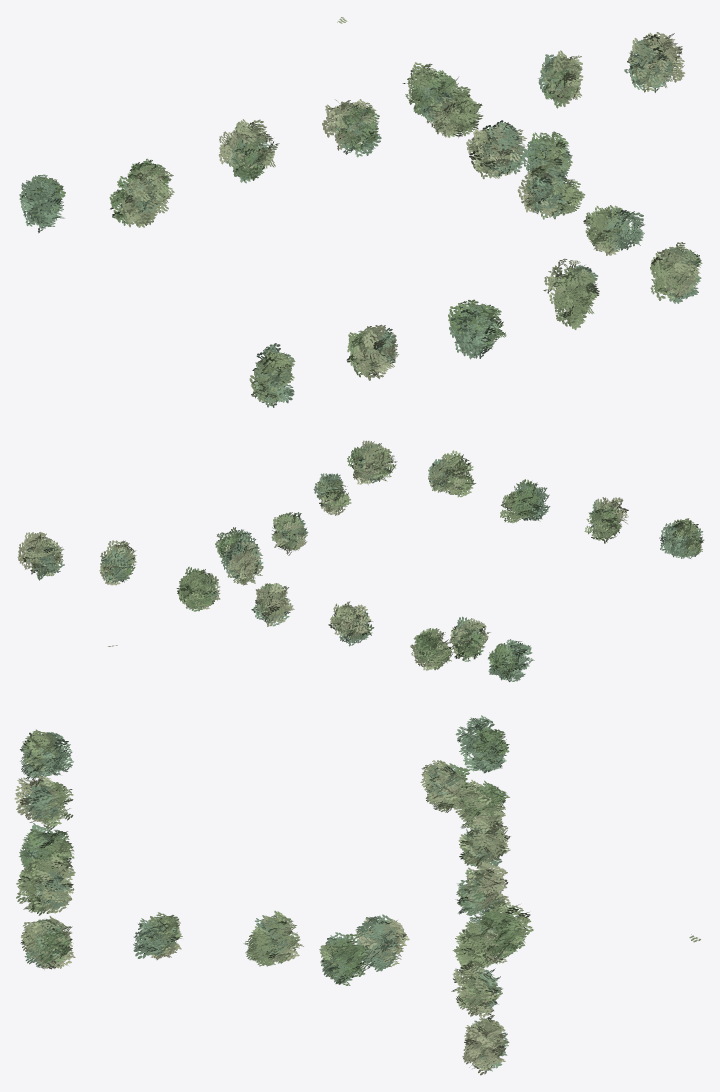
The model's file is campus-tree-0_-1-middle-photo.glb.
3 views of the same model, one above another, from view 1: azimuth 30°, elevation 25°; view 2: azimuth 150°, elevation 25°; view 3: azimuth 270°, elevation 25° (orthographic). The views are drawn at different scales.
Parts seen in each view (by area): view 1: Campus leaf canopy; view 2: Campus leaf canopy; view 3: Campus leaf canopy.
Part boxes in pixels (x1,y1,x2,y2): Campus leaf canopy: (19,17,702,407); Campus leaf canopy: (17,440,704,681); Campus leaf canopy: (14,715,700,1075).
Size of the model in its own units: 73.84 by 7.63 by 68.65.
Materials: 1 (1 with a texture image).
